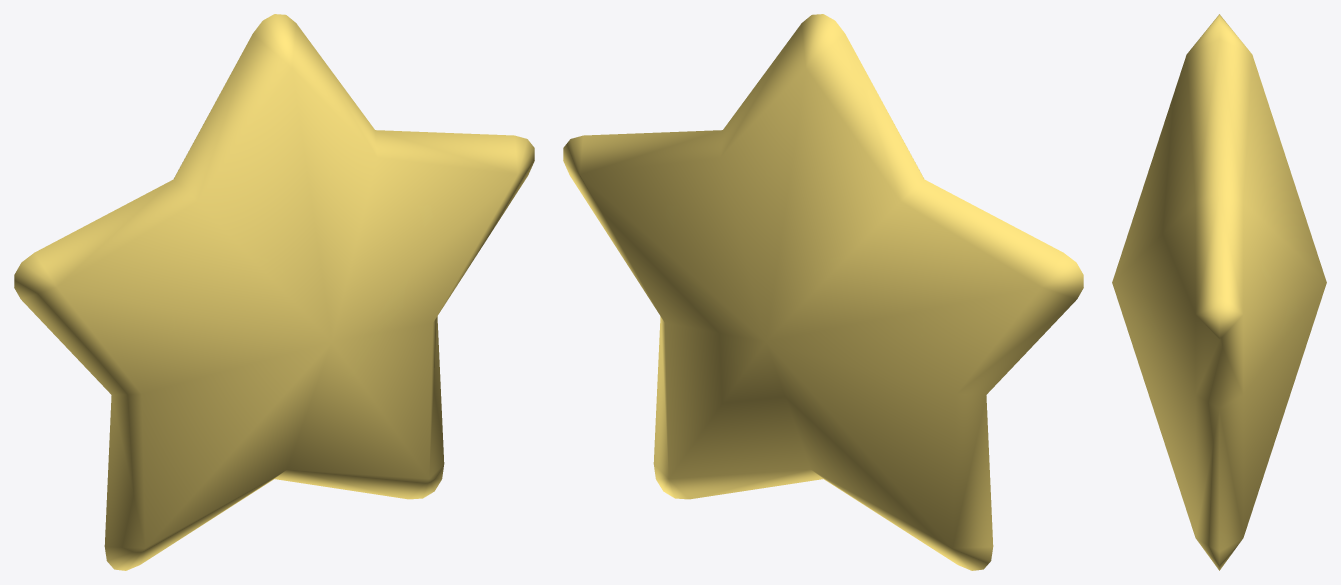
Rendered from star.glb.
3 renders of one model, left to right at view 1: azimuth 30°, elevation 25°; view 2: azimuth 150°, elevation 25°; view 3: azimuth 270°, elevation 25°, orthographic. The views are drawn at different scales.
Parts seen in each view (by area): view 1: Star; view 2: Star; view 3: Star.
Boxes of the visible parts, <box> form: Star: <box>14,14,534,570</box>; Star: <box>563,14,1083,570</box>; Star: <box>1112,14,1326,570</box>.
Size of the model in its own units: 2.64 by 2.52 by 1.01.
1 material, 1 textured.
